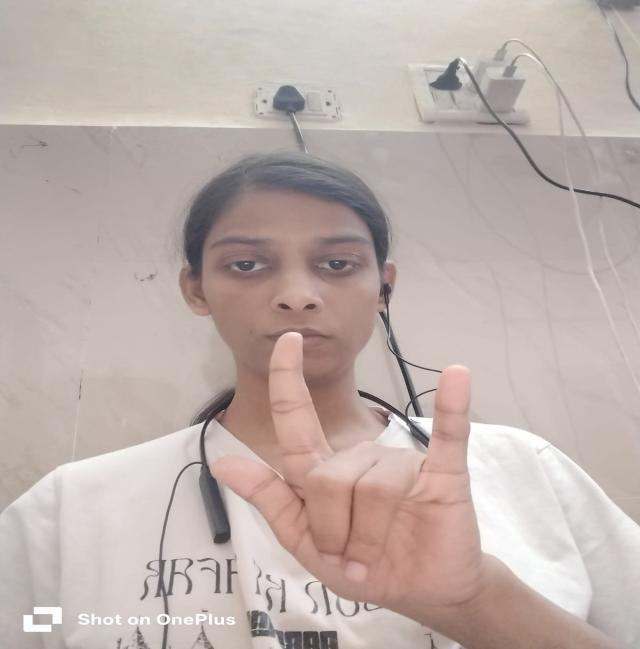I Love You: (200, 326, 539, 628)
